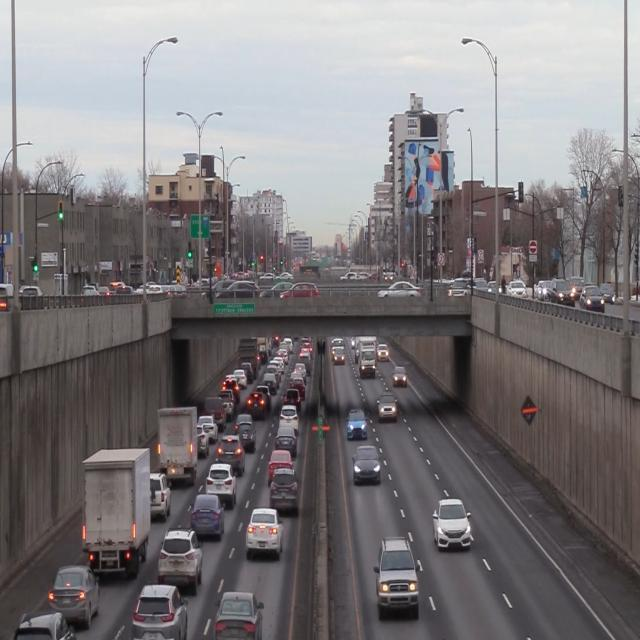Car: (372, 535, 423, 616), (431, 497, 473, 551)
Traffic-light: (30, 256, 38, 273), (57, 201, 63, 221)
Truck: (80, 447, 151, 578)
